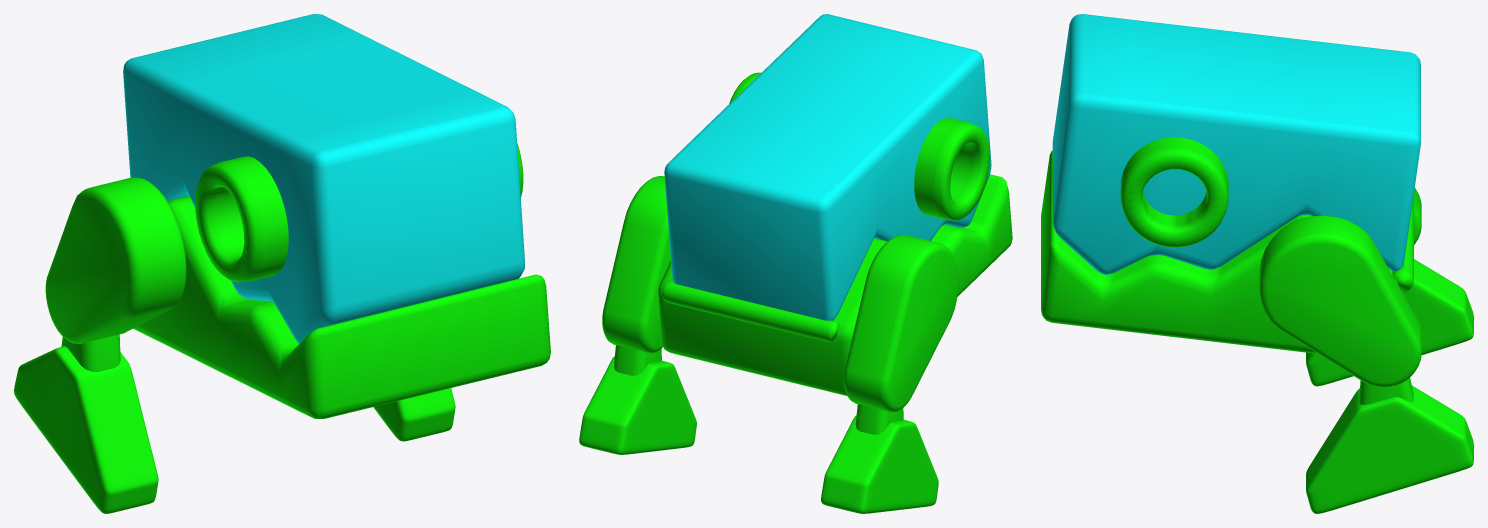
3 views of the same model, side by side, from view 1: azimuth 30°, elevation 25°; view 2: azimuth 150°, elevation 25°; view 3: azimuth 270°, elevation 25° (orthographic). The views are drawn at different scales.
Visible parts, largest first — view 1: Top_Jaw, Lower_Jaw, Thighs_Left, Feet_Left, Eyes, Feet_Right, Shin_Left; view 2: Top_Jaw, Lower_Jaw, Thighs_Left, Feet_Right, Feet_Left, Thighs_Right, Eyes, Hinge, Shin_Left, Shin_Right; view 3: Top_Jaw, Thighs_Right, Lower_Jaw, Feet_Right, Eyes, Feet_Left, Shin_Right, Hinge.
Boxes of the visible parts, x1,y1,x2,y2 form: Top_Jaw: (123, 14, 524, 343); Lower_Jaw: (133, 196, 550, 418); Thighs_Left: (45, 177, 186, 343); Feet_Left: (14, 346, 158, 513); Eyes: (195, 142, 523, 282); Feet_Right: (373, 388, 455, 441); Shin_Left: (61, 334, 120, 371); Top_Jaw: (664, 14, 991, 320); Lower_Jaw: (658, 174, 1012, 395); Thighs_Left: (844, 235, 958, 412); Feet_Right: (579, 356, 696, 454); Feet_Left: (821, 415, 938, 513); Thighs_Right: (602, 176, 670, 353); Eyes: (729, 72, 990, 220); Hinge: (662, 281, 839, 342); Shin_Left: (855, 404, 903, 434); Shin_Right: (614, 345, 661, 375); Top_Jaw: (1052, 14, 1420, 274); Thighs_Right: (1259, 215, 1421, 387); Lower_Jaw: (1041, 150, 1399, 353); Feet_Right: (1306, 385, 1473, 513); Eyes: (1120, 137, 1228, 247); Feet_Left: (1306, 259, 1473, 386); Shin_Right: (1359, 378, 1413, 404); Hinge: (1392, 196, 1413, 292).
Size of the model in its own units: 2.03 by 2.41 by 2.44.
